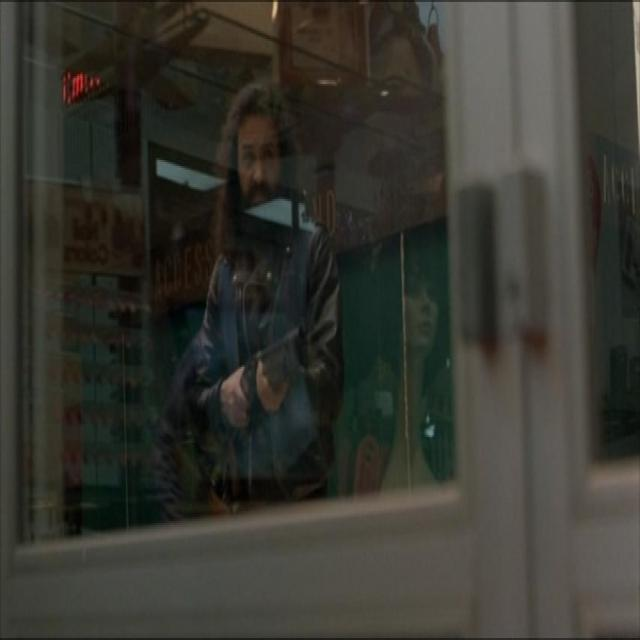rifle: (248, 326, 306, 395)
